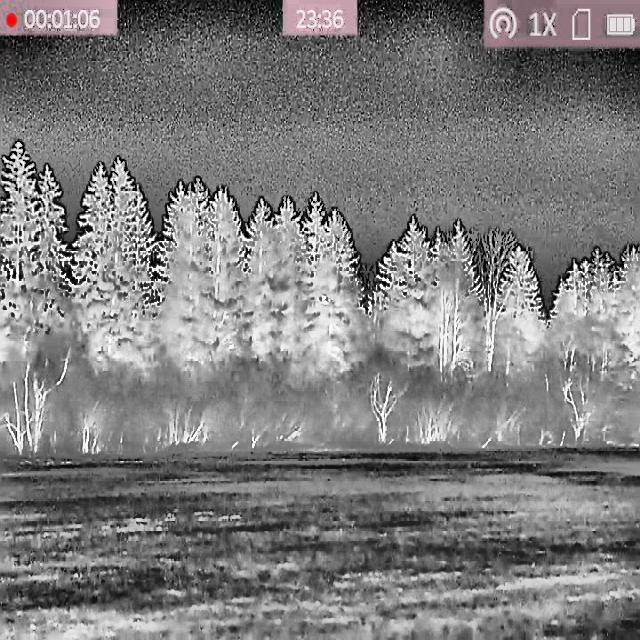drone: (317, 293, 332, 307)
